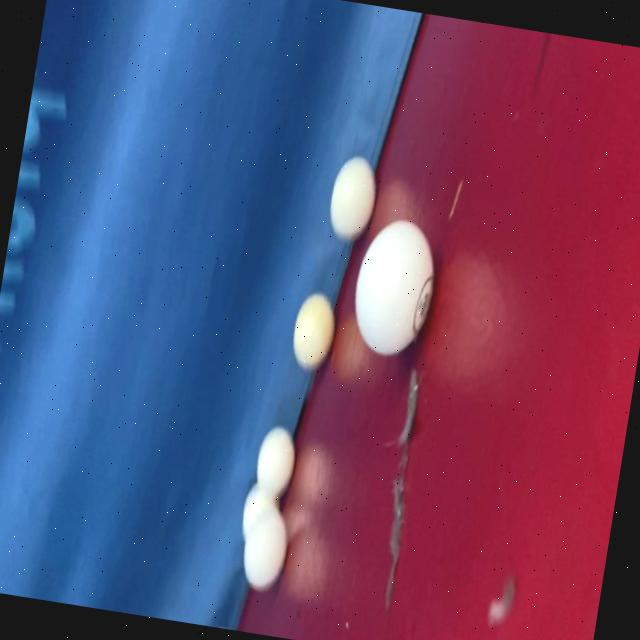ping-pong-ball: (343, 212, 446, 364), (322, 146, 385, 248), (288, 286, 344, 374)
